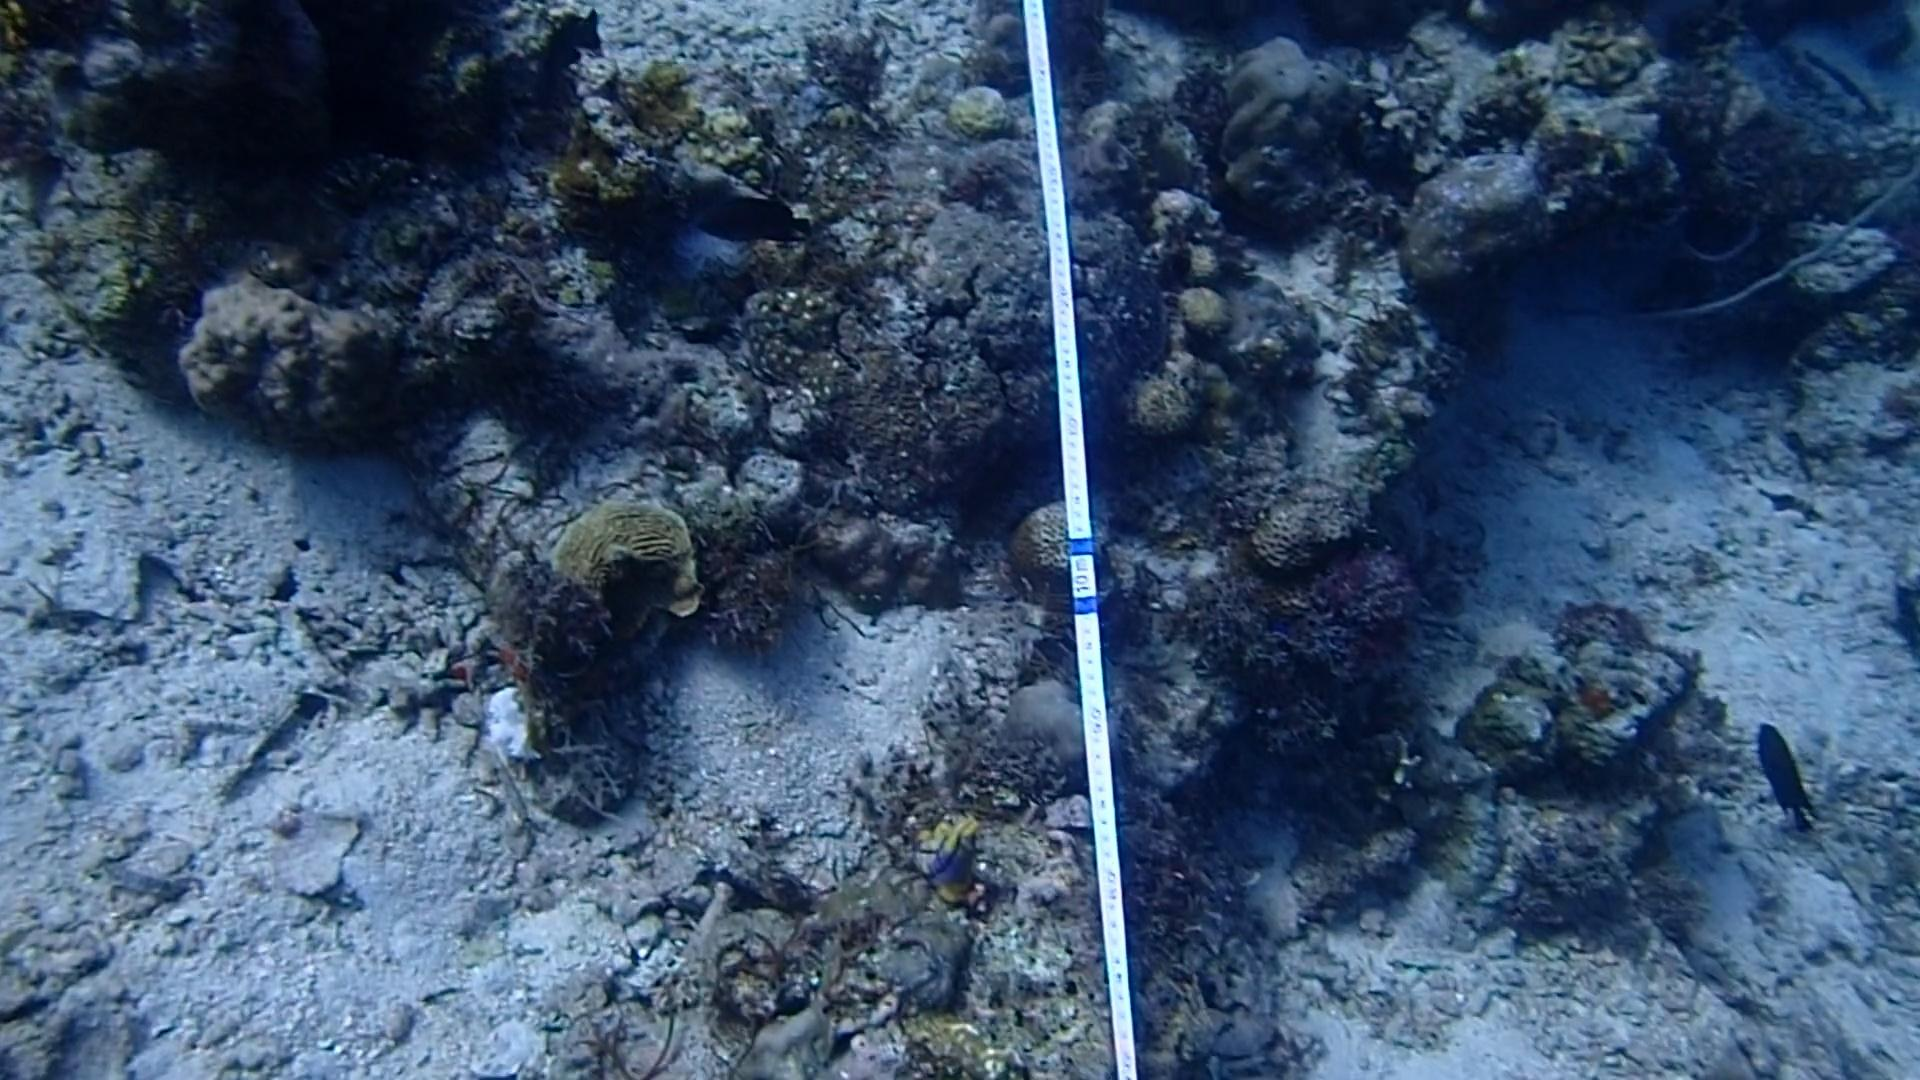Dark Fish: (1745, 708, 1829, 839), (680, 179, 819, 256)
